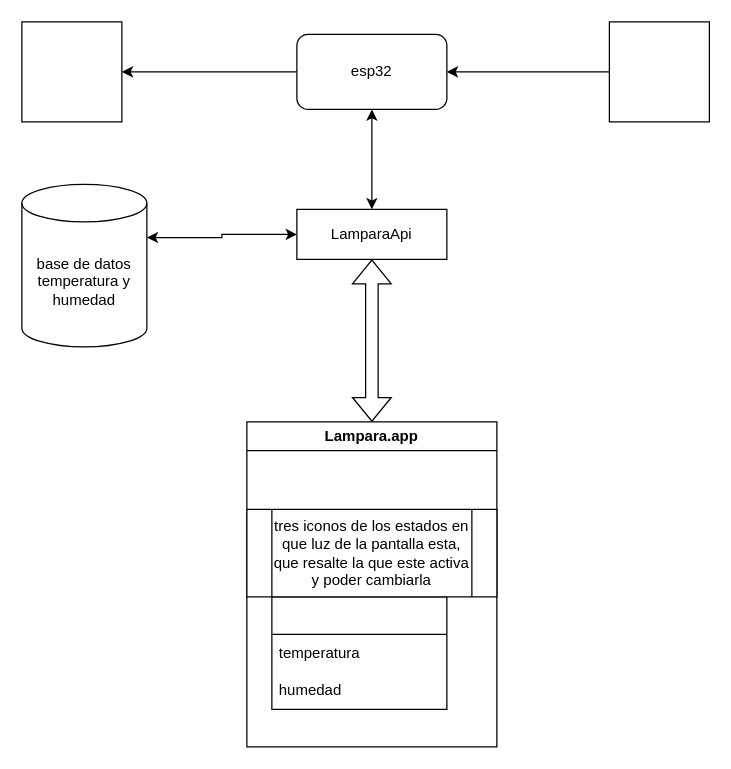
This 731x769 diagram has some shape labels left out. Here are the shapes that lost their labels. From the top down, the box of each, then its label:
(21, 21, 122, 122): panel led
(608, 21, 709, 122): sensor
(271, 596, 447, 709): datos
